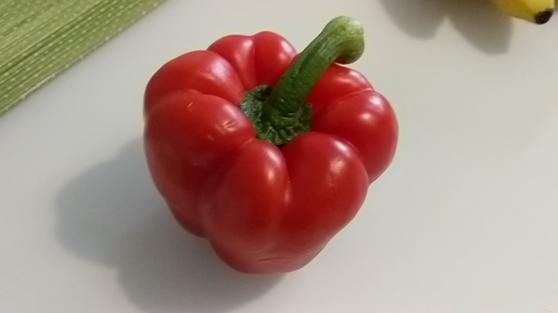pepper: (143, 17, 404, 273)
